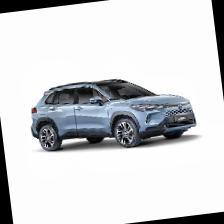NON-EV: (24, 67, 199, 159)
